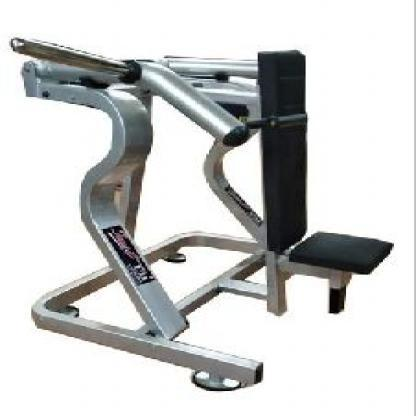shoulder press machine: (9, 30, 393, 391)
